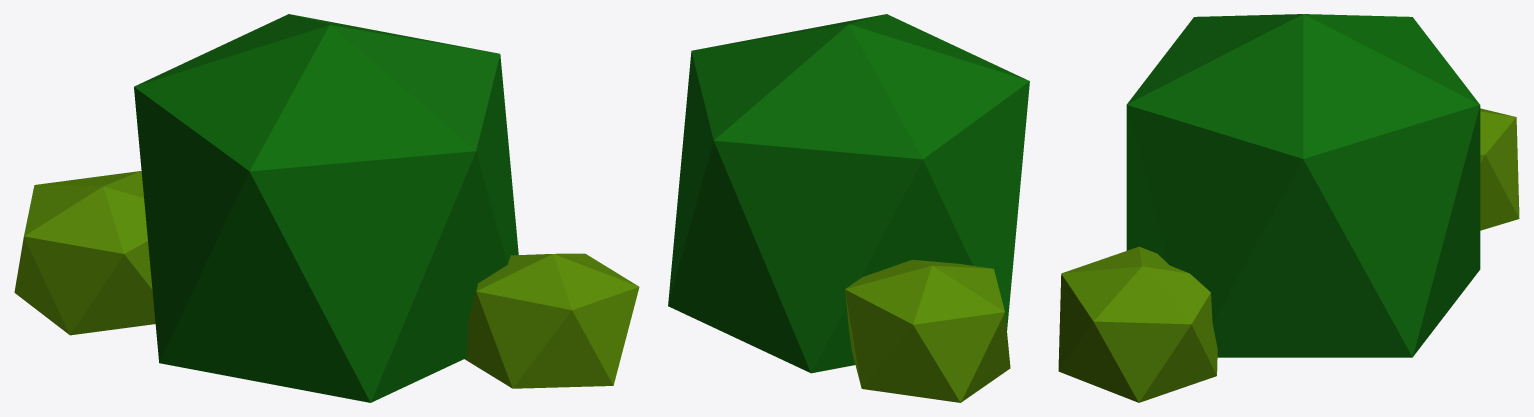
Rendered from bushh.fbx.
3 renders of one model, left to right at view 1: azimuth 30°, elevation 25°; view 2: azimuth 150°, elevation 25°; view 3: azimuth 270°, elevation 25°, orthographic. The views are drawn at different scales.
Parts seen in each view (by area): view 1: Icosphere.006; view 2: Icosphere.006; view 3: Icosphere.006.
Boxes of the visible parts, left/top/right/bottom form: Icosphere.006: left=14, top=14, right=639, bottom=402; Icosphere.006: left=668, top=14, right=1029, bottom=402; Icosphere.006: left=1058, top=14, right=1519, bottom=402.
Bounding box in the file's own units: 232 × 172 × 222.
